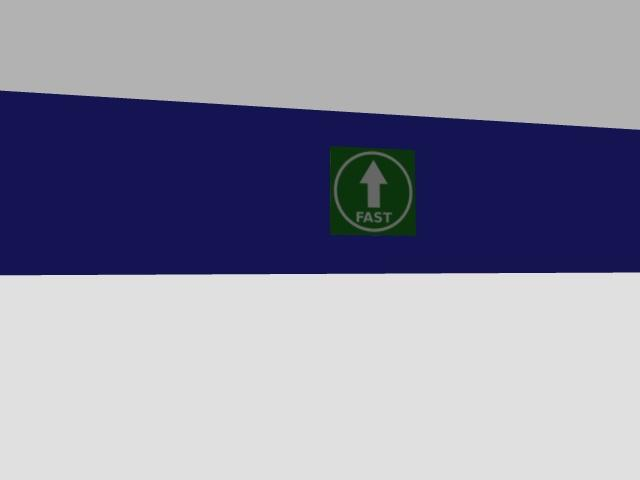fast: (330, 147, 415, 235)
